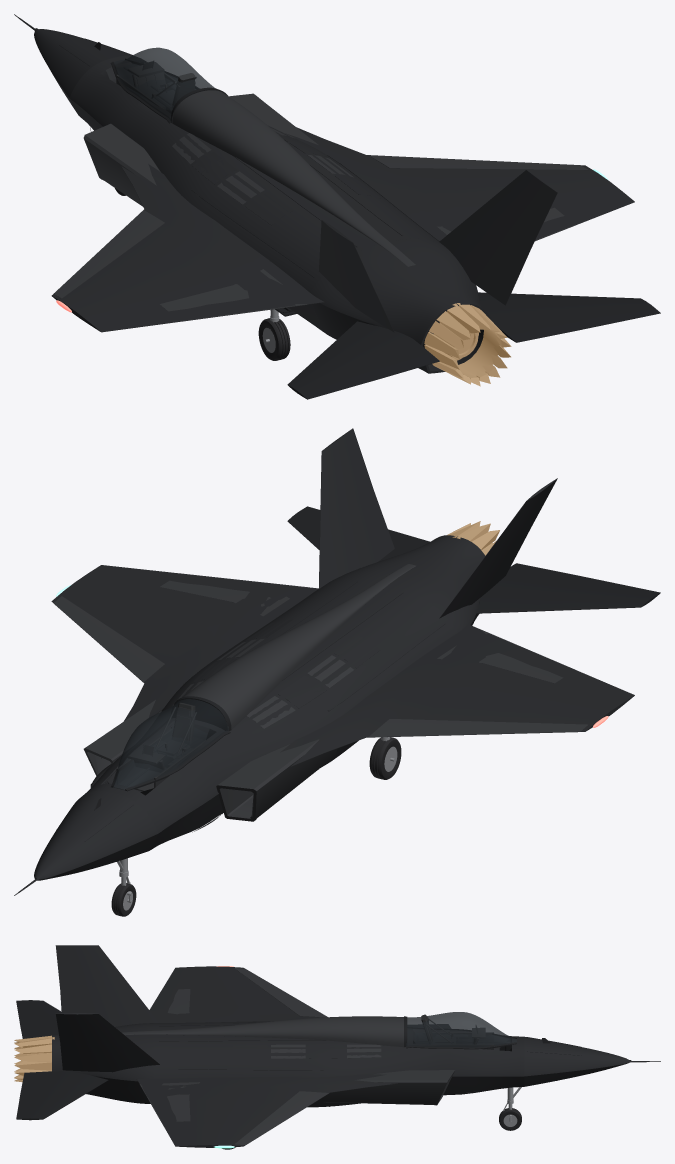
The model's file is aeris-x9.glb.
3 renders of one model, top to bottom at view 1: azimuth 30°, elevation 25°; view 2: azimuth 150°, elevation 25°; view 3: azimuth 270°, elevation 25°, orthographic. The views are drawn at different scales.
Visible parts, largest first — view 1: AX9__CORE__CENTER__MAIN_FUSELAGE, AX9__SURFACE__LEFT__WING_LEFT, AX9__SURFACE__RIGHT__WING_RIGHT, AX9__CORE__CENTER__REAR_FUSELAGE, AX9__CORE__CENTER__UPPER_SPINE, AX9__SURFACE__RIGHT__FIN_RIGHT, AX9__SURFACE__LEFT__STABILIZER_LEFT, AX9__SURFACE__RIGHT__STABILIZER_RIGHT, AX9__CANOPY__CENTER__CANOPY_GLASS, AX9__SURFACE__LEFT__FIN_LEFT, AX9__DUCT__LEFT__INTAKE_SHELL_LEFT, AX9__CORE__CENTER__NOSE_SHELL (+12 smaller); view 2: AX9__CORE__CENTER__MAIN_FUSELAGE, AX9__SURFACE__LEFT__WING_LEFT, AX9__SURFACE__RIGHT__WING_RIGHT, AX9__SURFACE__RIGHT__FIN_RIGHT, AX9__CORE__CENTER__UPPER_SPINE, AX9__CORE__CENTER__NOSE_SHELL, AX9__SURFACE__LEFT__STABILIZER_LEFT, AX9__CANOPY__CENTER__CANOPY_GLASS, AX9__CORE__CENTER__REAR_FUSELAGE, AX9__DUCT__LEFT__INTAKE_SHELL_LEFT, AX9__SURFACE__LEFT__FIN_LEFT, AX9__CANOPY__CENTER__DISPLAY_PLATE (+8 smaller); view 3: AX9__CORE__CENTER__MAIN_FUSELAGE, AX9__SURFACE__RIGHT__WING_RIGHT, AX9__SURFACE__LEFT__WING_LEFT, AX9__SURFACE__LEFT__FIN_LEFT, AX9__CORE__CENTER__UPPER_SPINE, AX9__SURFACE__RIGHT__FIN_RIGHT, AX9__CORE__CENTER__NOSE_SHELL, AX9__DUCT__RIGHT__INTAKE_SHELL_RIGHT, AX9__CANOPY__CENTER__CANOPY_GLASS, AX9__SURFACE__RIGHT__STABILIZER_RIGHT, AX9__CORE__CENTER__REAR_FUSELAGE, AX9__SURFACE__LEFT__STABILIZER_LEFT (+11 smaller).
Part boxes in pixels (box(x1,y1,x2,y2)): AX9__CORE__CENTER__MAIN_FUSELAGE: box(69, 55, 442, 331); AX9__SURFACE__LEFT__WING_LEFT: box(51, 164, 324, 332); AX9__SURFACE__RIGHT__WING_RIGHT: box(285, 127, 634, 241); AX9__CORE__CENTER__REAR_FUSELAGE: box(310, 238, 492, 373); AX9__CORE__CENTER__UPPER_SPINE: box(171, 90, 415, 266); AX9__SURFACE__RIGHT__FIN_RIGHT: box(439, 170, 557, 305); AX9__SURFACE__LEFT__STABILIZER_LEFT: box(287, 321, 439, 399); AX9__SURFACE__RIGHT__STABILIZER_RIGHT: box(478, 292, 660, 342); AX9__CANOPY__CENTER__CANOPY_GLASS: box(114, 47, 214, 120); AX9__SURFACE__LEFT__FIN_LEFT: box(318, 220, 394, 332); AX9__DUCT__LEFT__INTAKE_SHELL_LEFT: box(83, 123, 160, 206); AX9__CORE__CENTER__NOSE_SHELL: box(14, 14, 132, 113); AX9__CORE__CENTER__MAIN_FUSELAGE: box(83, 578, 457, 850); AX9__SURFACE__LEFT__WING_LEFT: box(233, 624, 634, 790); AX9__SURFACE__RIGHT__WING_RIGHT: box(51, 565, 318, 758); AX9__SURFACE__RIGHT__FIN_RIGHT: box(318, 428, 394, 588); AX9__CORE__CENTER__UPPER_SPINE: box(183, 564, 415, 731); AX9__CORE__CENTER__NOSE_SHELL: box(14, 791, 158, 895); AX9__SURFACE__LEFT__STABILIZER_LEFT: box(476, 563, 660, 613); AX9__CANOPY__CENTER__CANOPY_GLASS: box(113, 699, 228, 790); AX9__CORE__CENTER__REAR_FUSELAGE: box(326, 535, 485, 632); AX9__DUCT__LEFT__INTAKE_SHELL_LEFT: box(192, 739, 337, 832); AX9__SURFACE__LEFT__FIN_LEFT: box(439, 478, 557, 618); AX9__CANOPY__CENTER__DISPLAY_PLATE: box(116, 702, 205, 791); AX9__CORE__CENTER__MAIN_FUSELAGE: box(153, 1021, 524, 1107); AX9__SURFACE__RIGHT__WING_RIGHT: box(137, 1074, 451, 1147); AX9__SURFACE__LEFT__WING_LEFT: box(150, 966, 322, 1022); AX9__SURFACE__LEFT__FIN_LEFT: box(55, 945, 158, 1026); AX9__CORE__CENTER__UPPER_SPINE: box(122, 1016, 405, 1047); AX9__SURFACE__RIGHT__FIN_RIGHT: box(56, 1013, 159, 1072); AX9__CORE__CENTER__NOSE_SHELL: box(524, 1036, 660, 1086); AX9__DUCT__RIGHT__INTAKE_SHELL_RIGHT: box(323, 1070, 475, 1105); AX9__CANOPY__CENTER__CANOPY_GLASS: box(406, 1012, 516, 1047); AX9__SURFACE__RIGHT__STABILIZER_RIGHT: box(16, 1071, 108, 1120); AX9__CORE__CENTER__REAR_FUSELAGE: box(52, 1023, 153, 1103); AX9__SURFACE__LEFT__STABILIZER_LEFT: box(16, 1000, 61, 1038).
Bounding box in the file's own units: 7.79 × 3.03 × 11.78.
